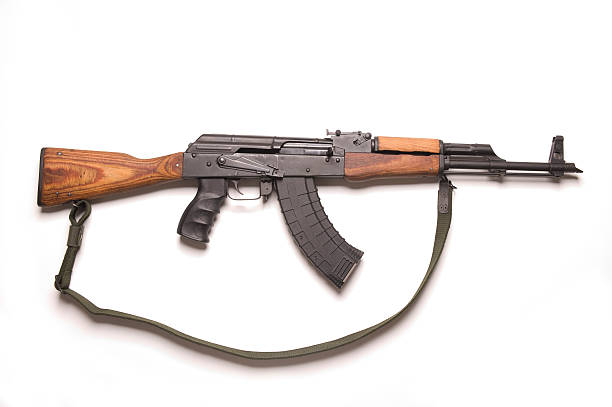rifle: (32, 122, 594, 293)
